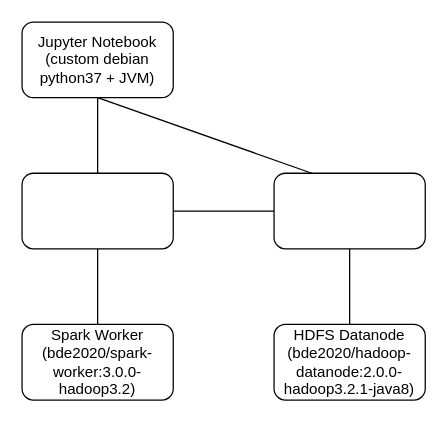
Some shapes in this 447 by 422 pixel diagram are drawn without their labels. Here are the shapes that lost their labels. From the top down, the centre of each, then its label:
At [97,210]: "Spark Master (bde2020/spark-master:3.0.0-hadoop3.2)".
At [349,210]: "HDFS Namenode (bde2020/hadoop-namenode:2.0.0-hadoop3.2.1-java8)".
